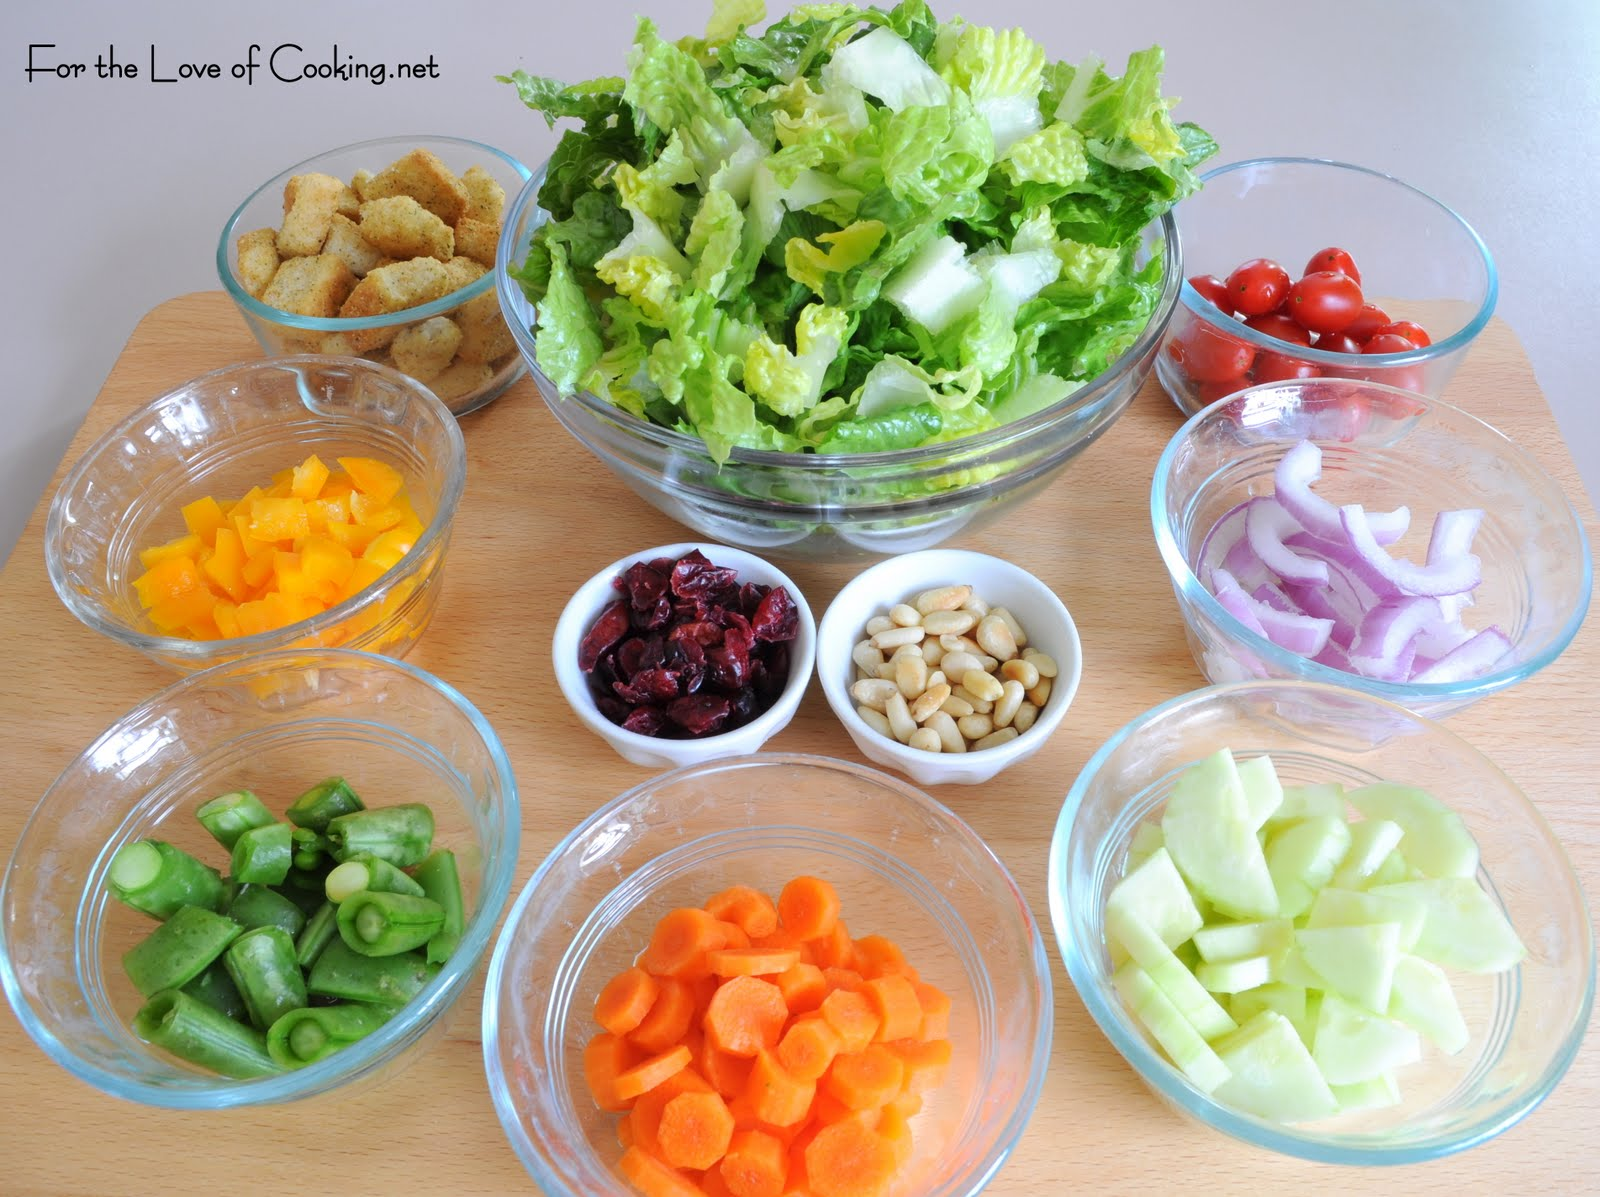chopped lettuce: (660, 78, 1092, 399)
